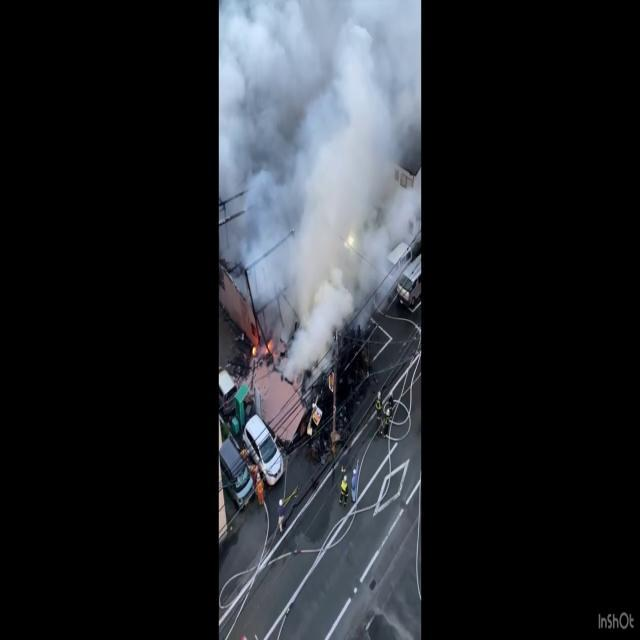Smoke: (218, 0, 420, 374)
